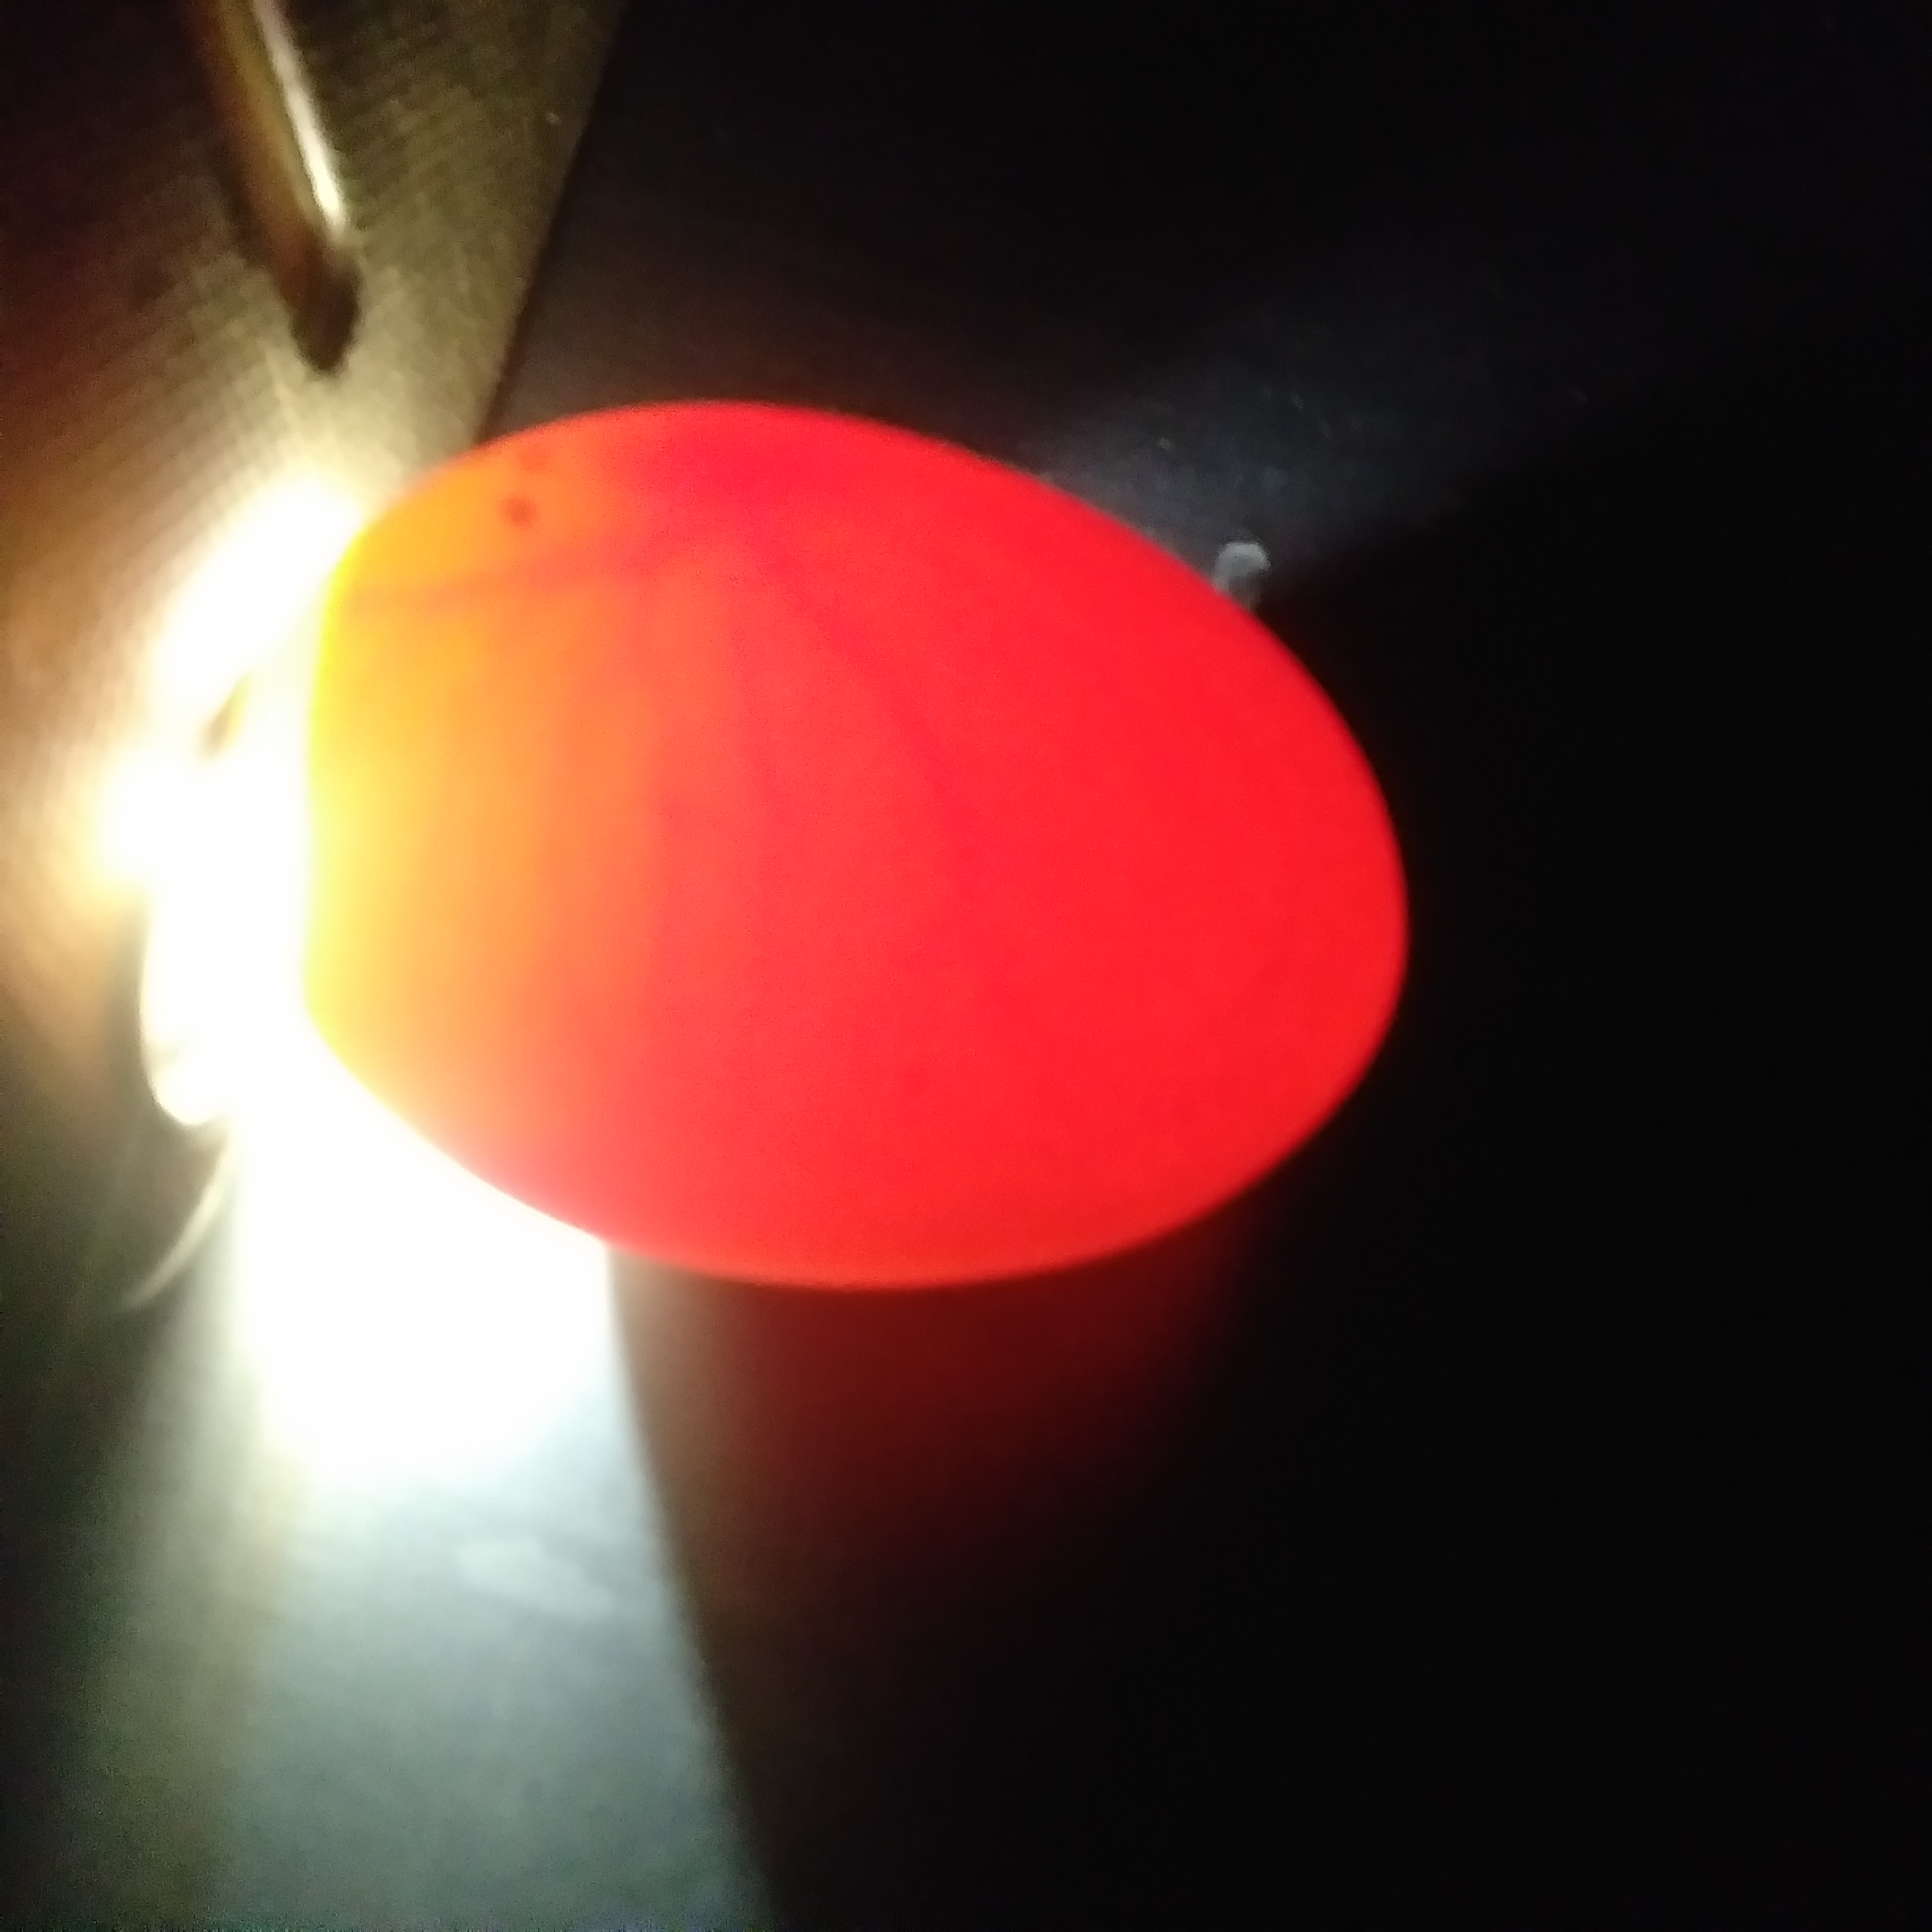bloodcell: (382, 571, 1102, 959)
embryo: (621, 446, 819, 540)
